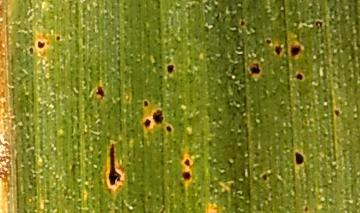tarspot: (107, 141, 123, 189), (293, 148, 307, 169), (246, 59, 261, 78), (287, 43, 304, 59), (94, 82, 107, 101), (151, 108, 165, 125), (180, 170, 193, 183), (164, 62, 176, 76), (36, 38, 47, 52), (273, 44, 284, 58), (139, 98, 152, 109), (141, 118, 152, 130), (332, 107, 343, 119), (238, 18, 248, 30), (295, 70, 304, 83), (182, 156, 193, 166), (165, 124, 175, 135), (259, 173, 270, 183), (53, 33, 62, 44), (27, 45, 35, 56), (264, 36, 273, 45)
